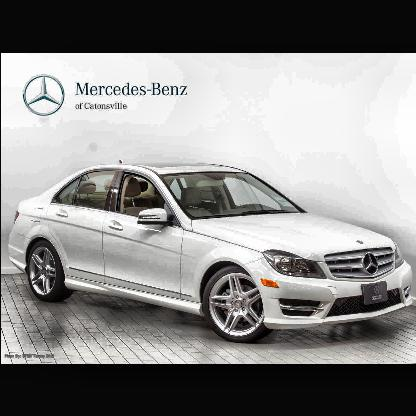Mercedes-Benz C-Class Sedan 2012: (5, 150, 416, 362)
